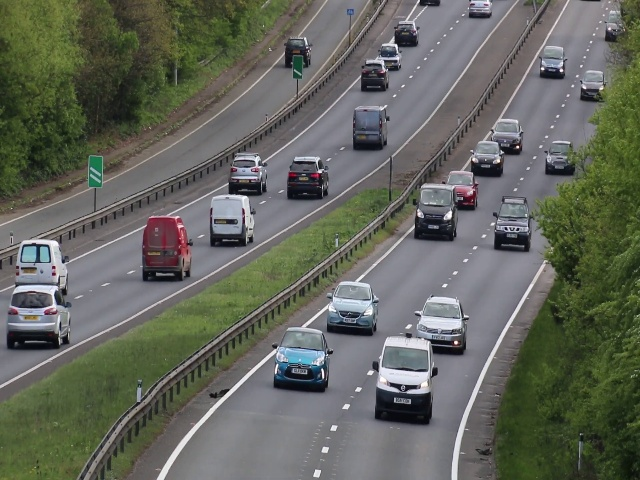car: (375, 337, 433, 426), (5, 283, 74, 348), (272, 326, 331, 393), (139, 215, 195, 283), (15, 239, 71, 295), (326, 279, 377, 337), (207, 194, 258, 248), (418, 297, 467, 352), (413, 183, 458, 241), (289, 150, 330, 205), (493, 197, 533, 251), (226, 152, 268, 195), (352, 105, 389, 151), (471, 139, 504, 177), (491, 117, 522, 152), (448, 173, 479, 208), (359, 58, 390, 92), (283, 36, 312, 68), (545, 137, 569, 175), (579, 67, 606, 100), (539, 44, 565, 78), (393, 21, 420, 47), (380, 42, 402, 72), (605, 10, 619, 40), (467, 1, 492, 17)
